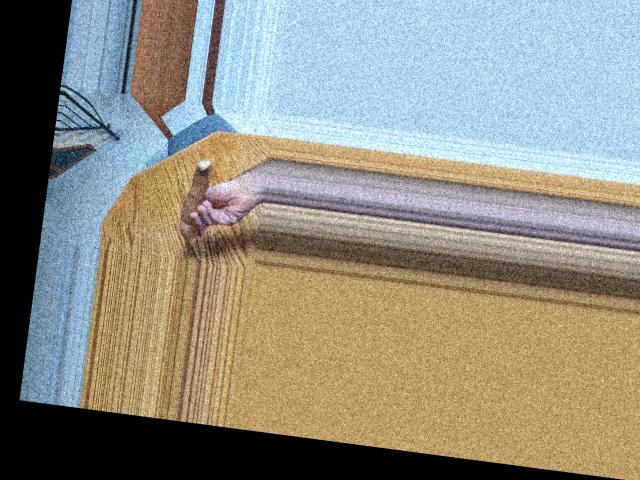sweet_potato: (174, 159, 219, 242)
